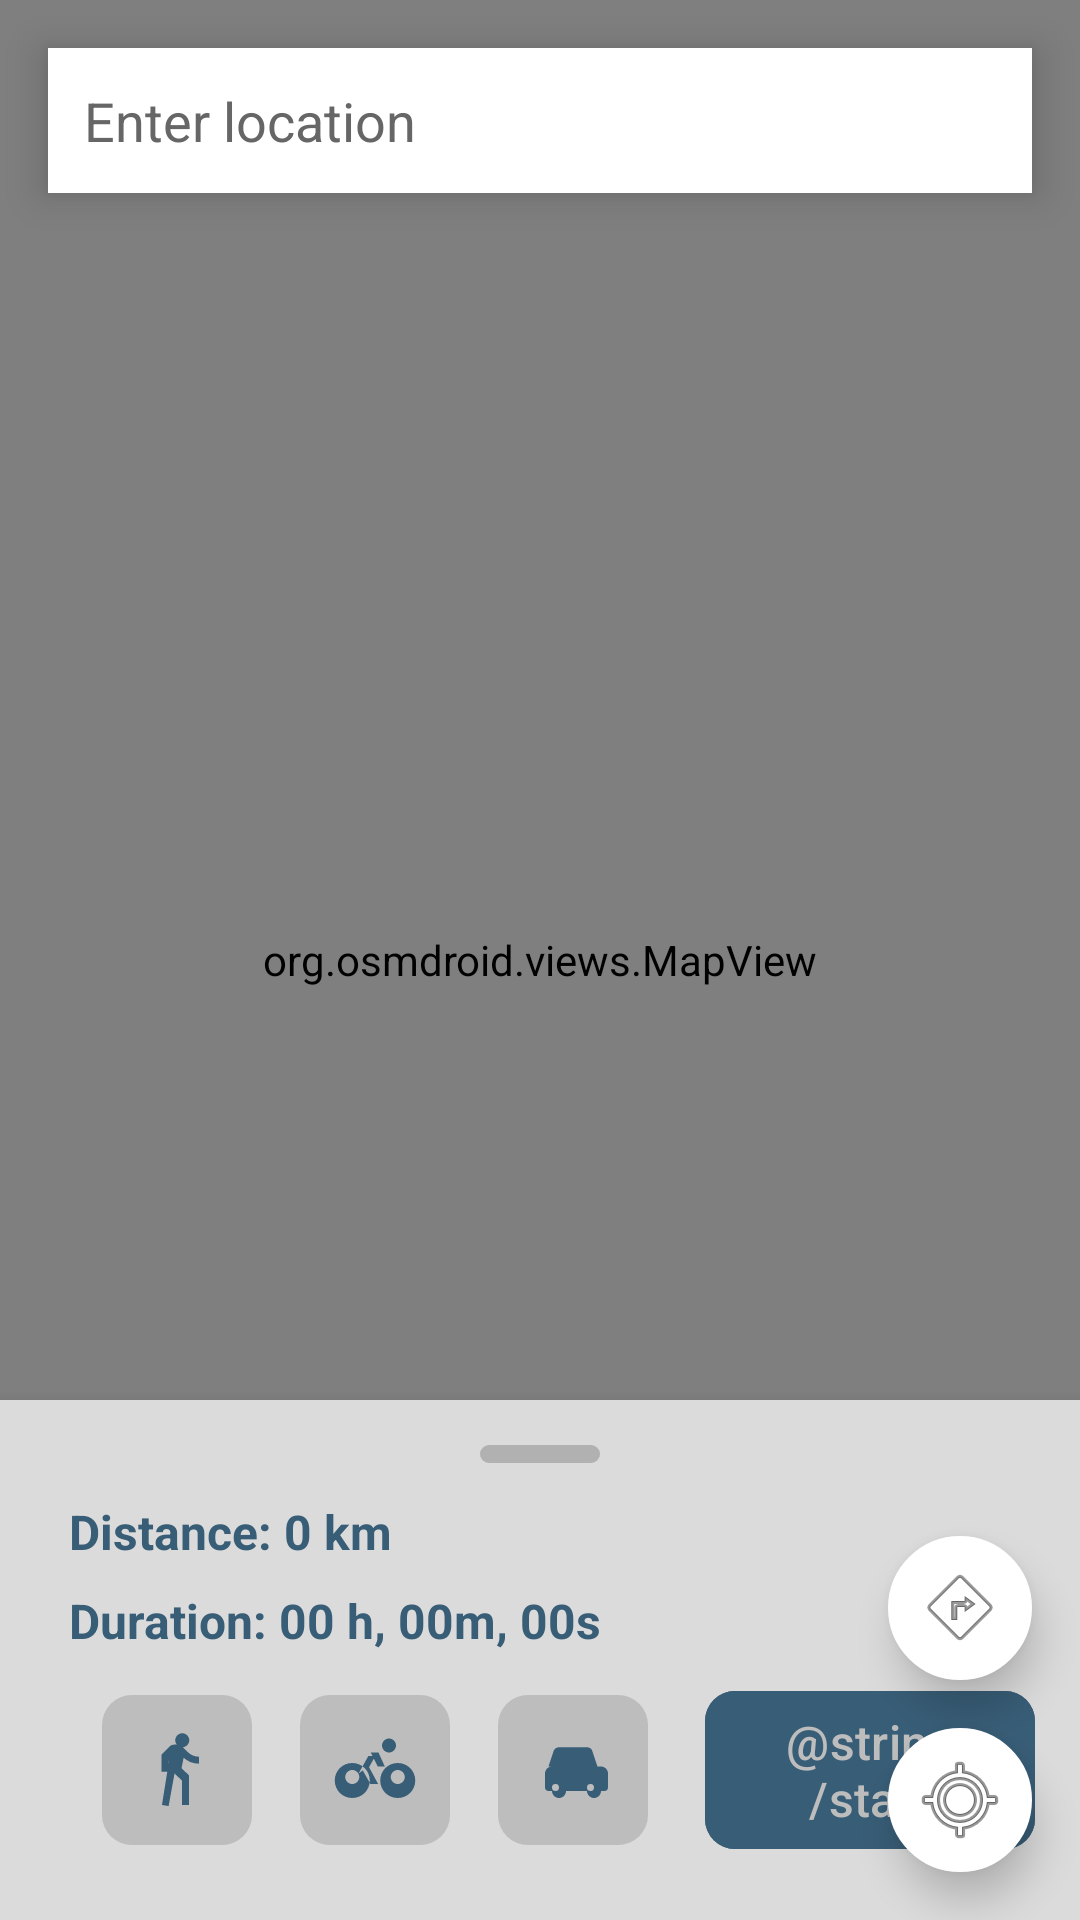

Where to tap for icons on this 1080 x 1920 app screen, as (x=x, y=y):
Bike: (x=375, y=1770)
Car: (x=573, y=1770)
directions: (x=960, y=1608)
mylocation: (x=960, y=1800)
Walk: (x=177, y=1770)
